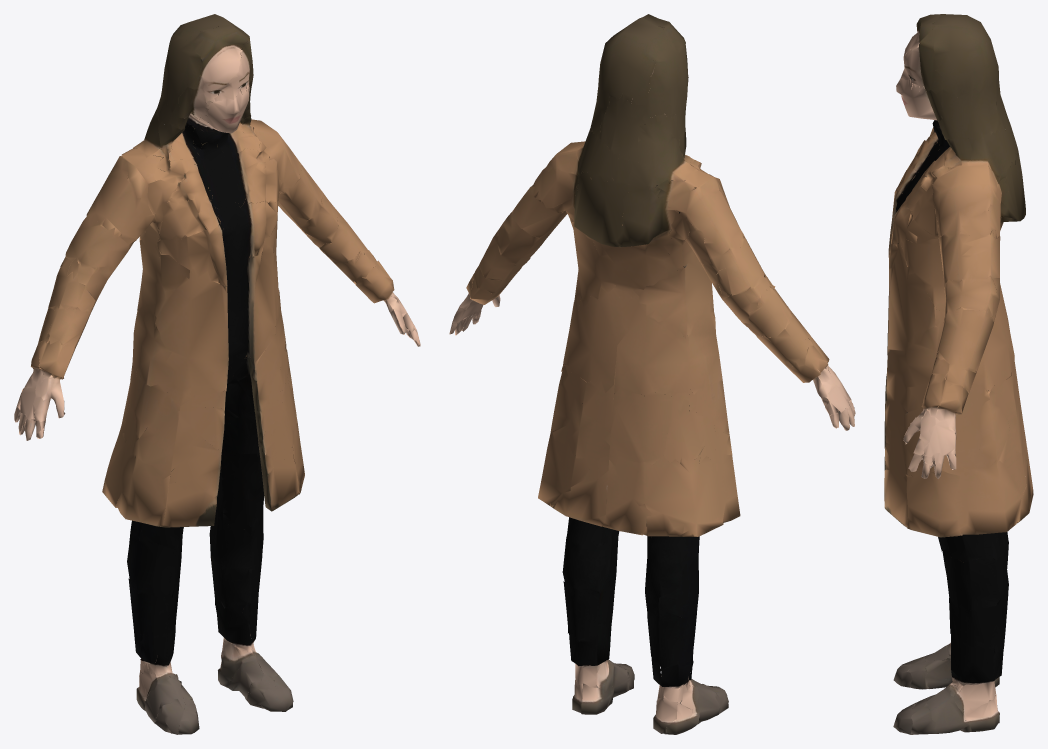
The model's file is avatar_lowpoly.glb.
3 renders of one model, left to right at view 1: azimuth 30°, elevation 25°; view 2: azimuth 150°, elevation 25°; view 3: azimuth 270°, elevation 25°, orthographic.
Parts seen in each view (by area): view 1: Mesh_0; view 2: Mesh_0; view 3: Mesh_0.
Part boxes in pixels (x1,y1,x2,y2): Mesh_0: (14,14,420,734); Mesh_0: (449,14,855,734); Mesh_0: (884,14,1033,734).
Size of the model in its own units: 1.15 by 1.9 by 0.3737.
Materials: 1 (1 with a texture image).
